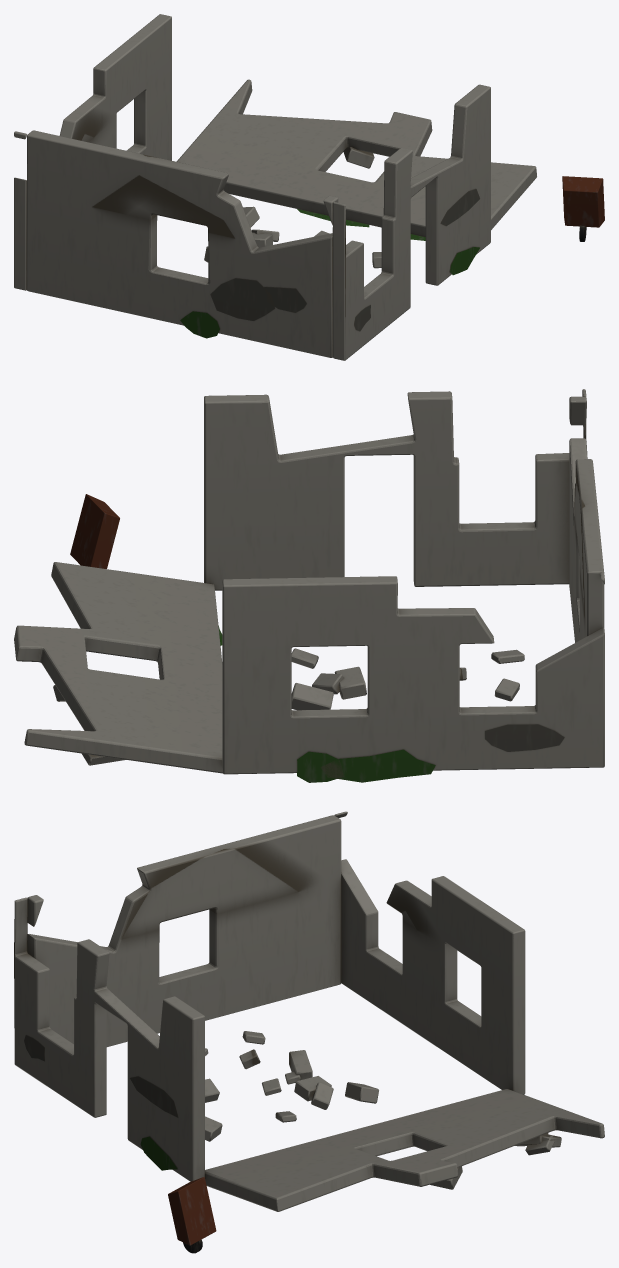
Rendered from casa_c.glb.
3 views of the same model, one above another, from view 1: azimuth 30°, elevation 25°; view 2: azimuth 150°, elevation 25°; view 3: azimuth 270°, elevation 25° (orthographic). The views are drawn at different scales.
Parts seen in each view (by area): view 1: g_casa_c; view 2: g_casa_c; view 3: g_casa_c.
Part boxes in pixels (bbox=[...]): g_casa_c: bbox=[14, 14, 604, 360]; g_casa_c: bbox=[14, 389, 604, 782]; g_casa_c: bbox=[14, 811, 604, 1253].
Size of the model in its own units: 10.36 by 3.39 by 9.74.
1 material, 1 textured.
